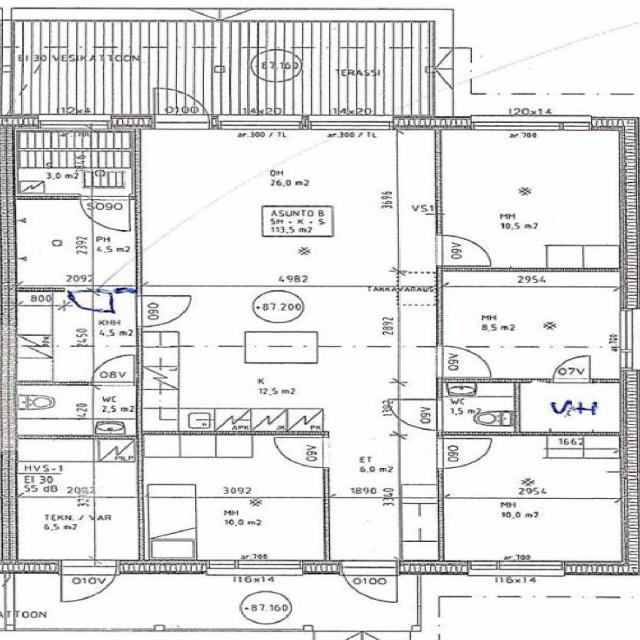door: (61, 561, 118, 611), (342, 561, 398, 610), (155, 81, 210, 129), (435, 438, 490, 470), (435, 235, 490, 266), (81, 195, 129, 229), (136, 296, 188, 326), (436, 347, 488, 377), (66, 288, 113, 321), (277, 437, 328, 467), (391, 401, 441, 428), (92, 355, 132, 385), (552, 356, 588, 382)
